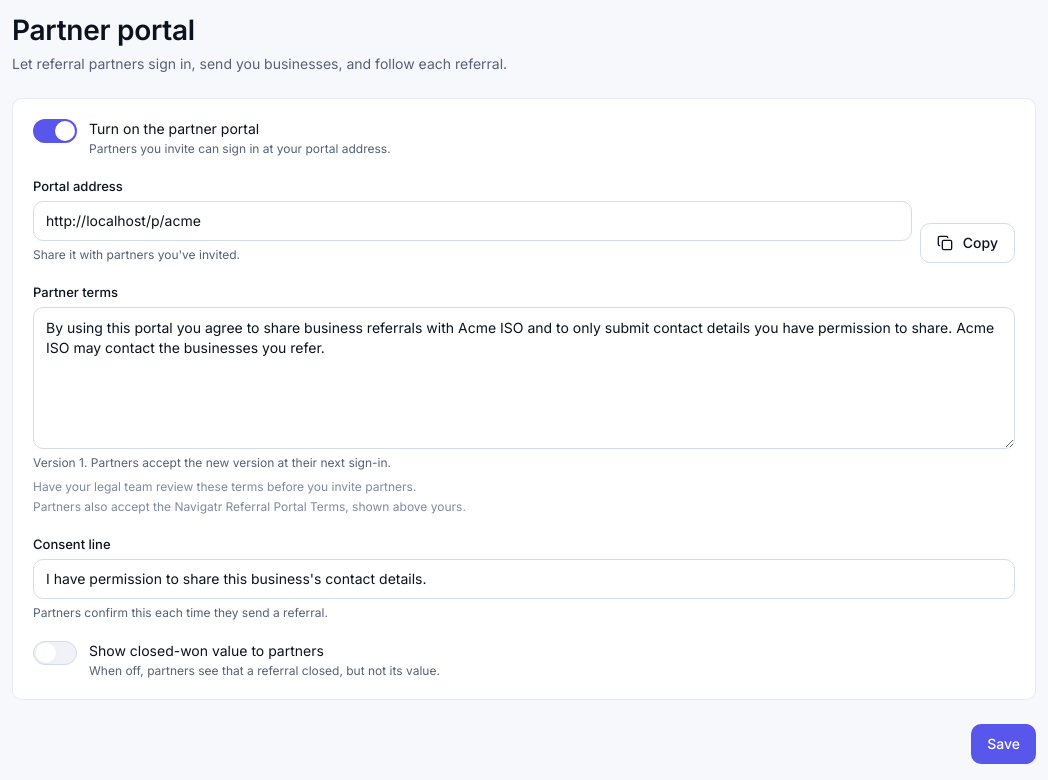
Test: PartnerPortalTab › shows the kept text after saving blank terms and consent
Clear the text box labelled "Partner terms". click: {"x": 524, "y": 378}
box: x1=34 y1=308 x2=1014 y2=448
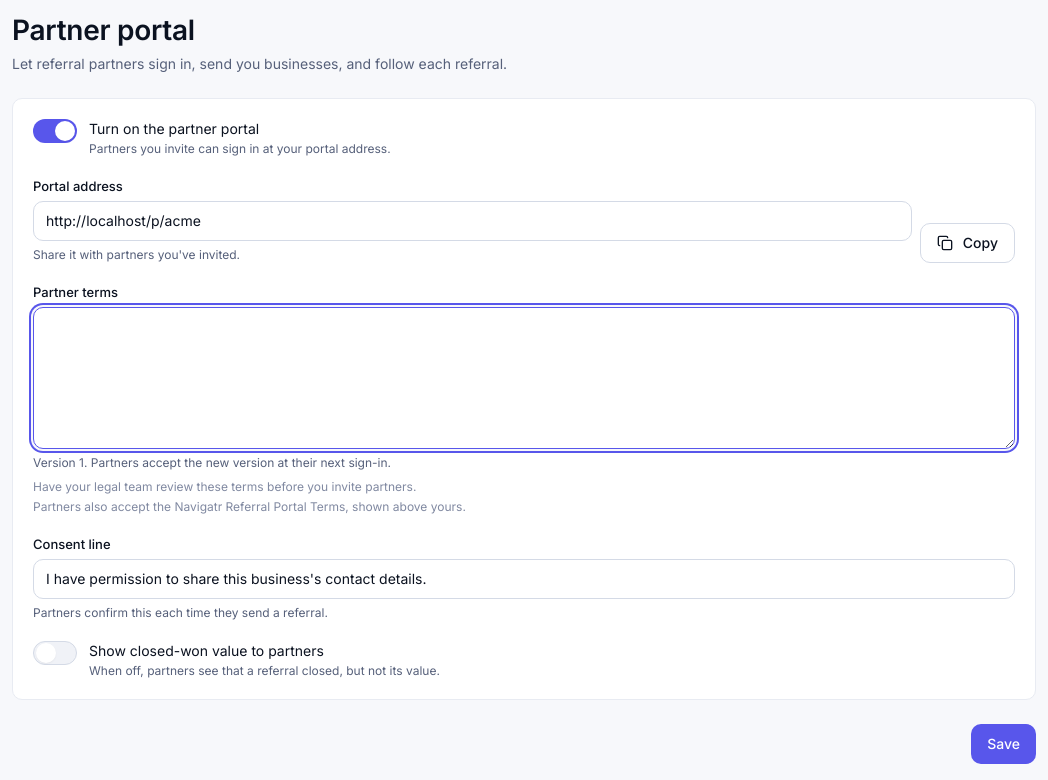
Clear the field labelled "Consent line". click: {"x": 524, "y": 579}
box: x1=46 y1=569 x2=1002 y2=589
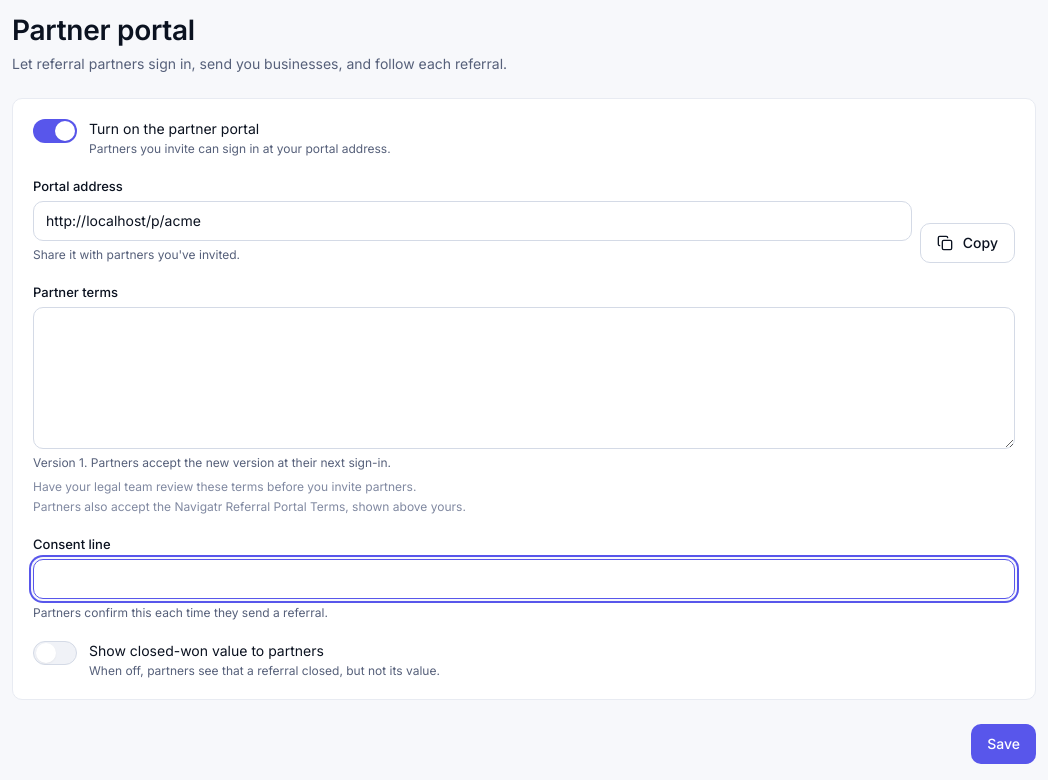
Click the button "Save". click: {"x": 1004, "y": 744}
box: x1=971 y1=724 x2=1036 y2=764
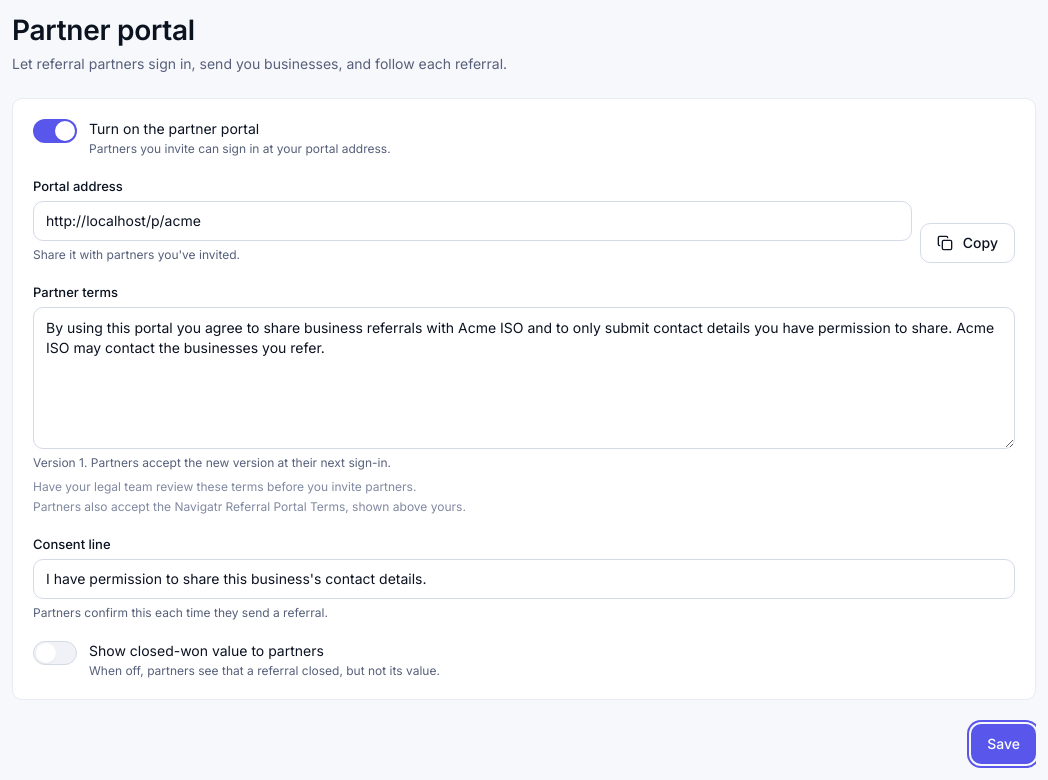
Expected: the text box showing "By using this portal you agree to share business referrals with Acme ISO and to only submit contact details you have per" is shown, x1=34 y1=308 x2=1014 y2=448
Expected: the field labelled "Consent line" holds "I have permission to share this business's contact details.", x1=46 y1=569 x2=1002 y2=589
